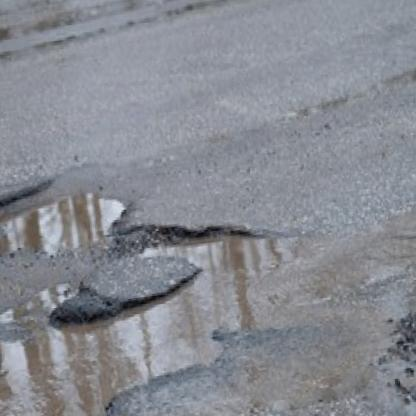pothole: (0, 166, 133, 277)
